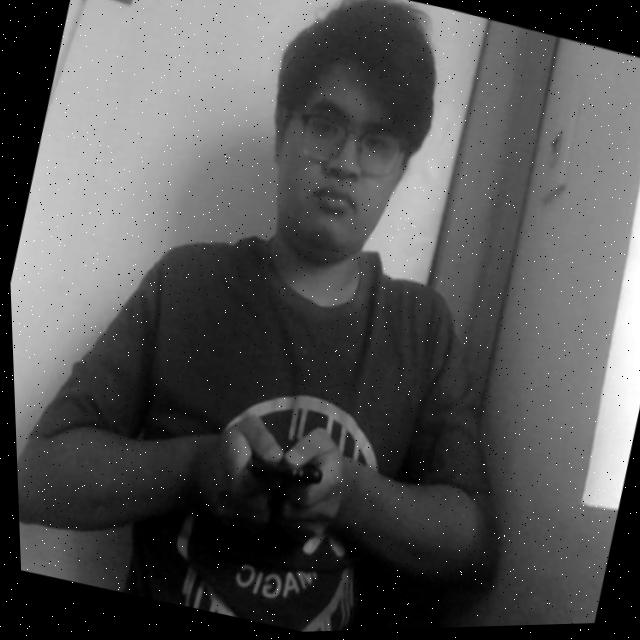phone: (218, 413, 335, 528)
